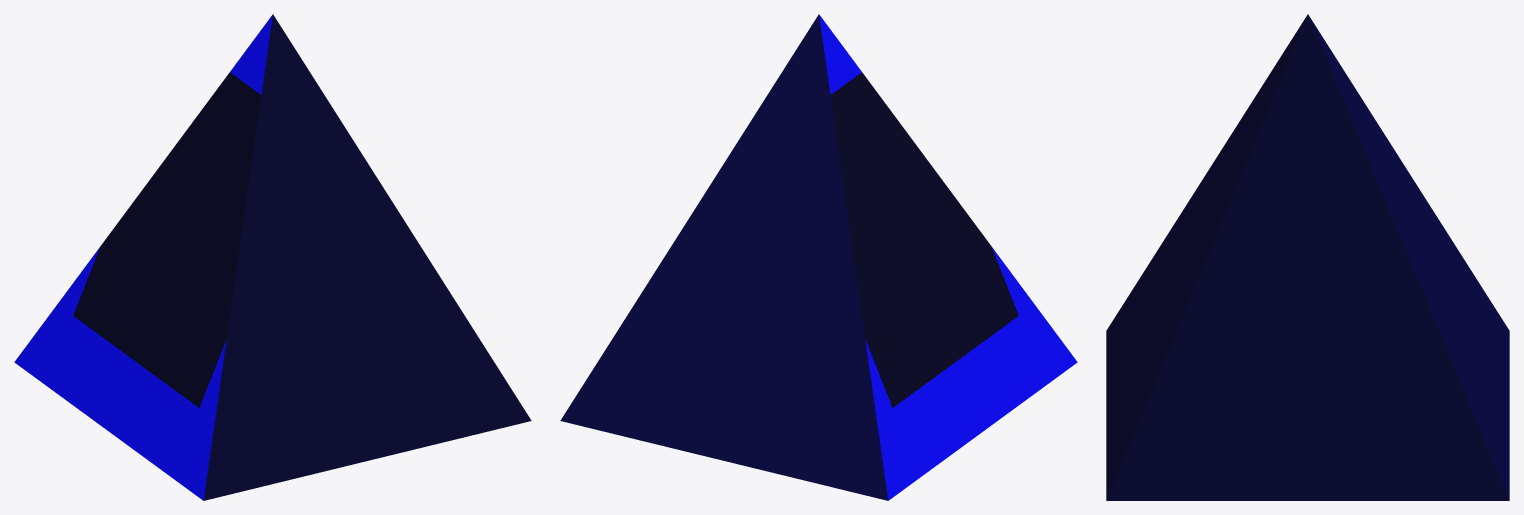
File: e03.flyer.glb
The picture shows the model from 3 angles, left to right: view 1: azimuth 30°, elevation 25°; view 2: azimuth 150°, elevation 25°; view 3: azimuth 270°, elevation 25°; orthographic projection. The views are drawn at different scales.
Visible parts, largest first — view 1: flyer; view 2: flyer; view 3: flyer.
Boxes of the visible parts, x1,y1,x2,y2 form: flyer: (14, 14, 531, 500); flyer: (560, 14, 1077, 500); flyer: (1106, 14, 1509, 500).
Bounding box in the file's own units: 0.5 × 0.55 × 0.5.
1 material, 1 textured.
